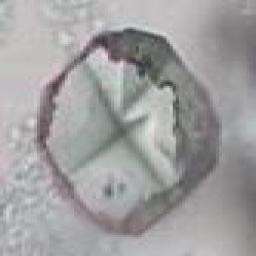crystals: (36, 25, 224, 237)
